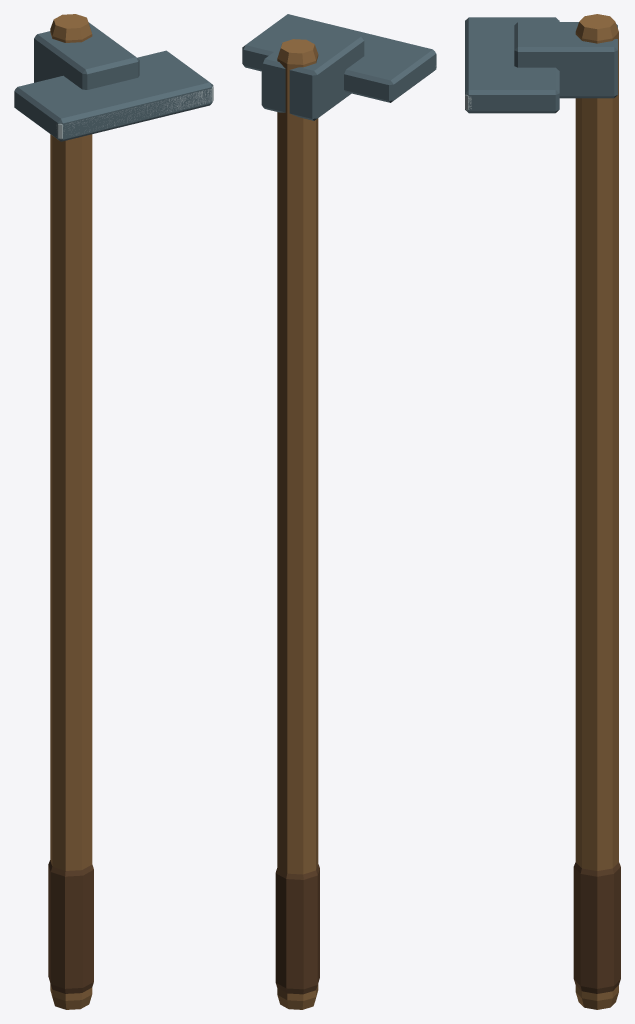
Rendered from Hoe.fbx.
3 views of the same model, side by side, from view 1: azimuth 30°, elevation 25°; view 2: azimuth 150°, elevation 25°; view 3: azimuth 270°, elevation 25° (orthographic). The views are drawn at different scales.
Parts seen in each view (by area): view 1: Hoe; view 2: Hoe; view 3: Hoe.
Boxes of the visible parts, x1,y1,x2,y2 form: Hoe: (14,14,213,1009); Hoe: (242,14,436,1009); Hoe: (465,14,620,1009).
Bounding box in the file's own units: 19 × 115 × 16.5.
